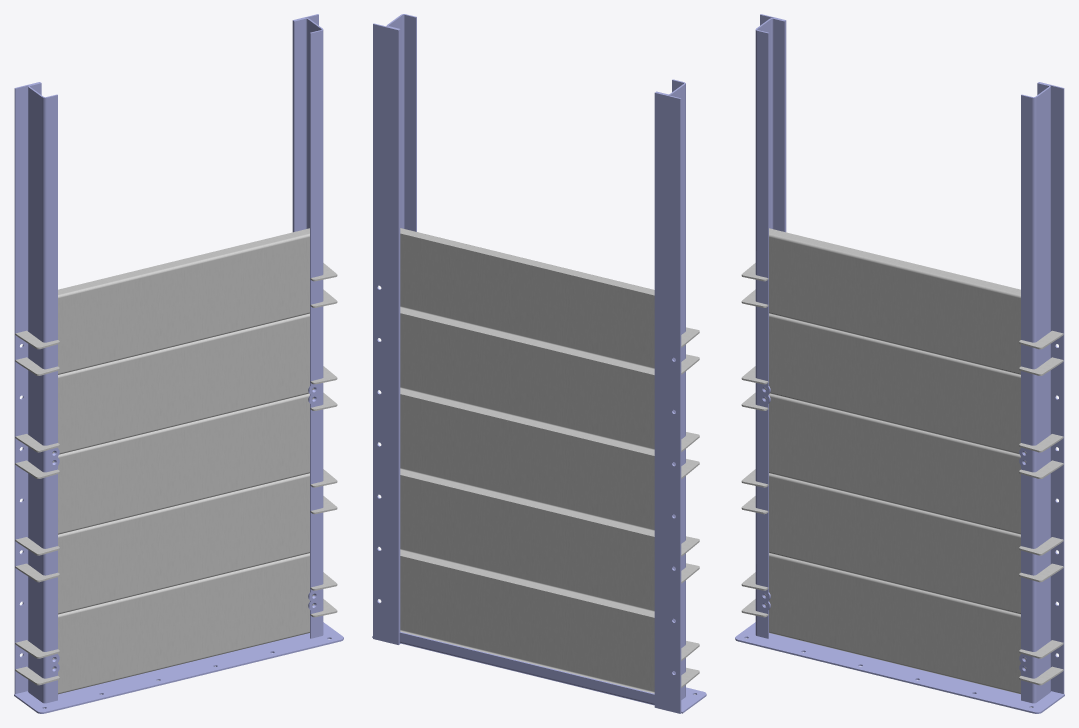
The model's file is 1.3 W-CPS.glb.
The picture shows the model from 3 angles, left to right: view 1: azimuth 30°, elevation 25°; view 2: azimuth 150°, elevation 25°; view 3: azimuth 330°, elevation 25°; orthographic projection.
Parts seen in each view (by area): view 1: Sólido2 (×8), Sólido3 (×2); view 2: Sólido2 (×8), Sólido3 (×2); view 3: Sólido2 (×8), Sólido3 (×2).
Part boxes in pixels (box(x1,y1,x2,y2)): Sólido2 (×8): box(14, 18, 343, 713); Sólido3 (×2): box(14, 14, 318, 693); Sólido2 (×8): box(372, 14, 706, 713); Sólido3 (×2): box(373, 23, 681, 713); Sólido2 (×8): box(735, 18, 1064, 713); Sólido3 (×2): box(760, 14, 1064, 693).
Size of the model in its own units: 1.2 by 2.28 by 0.1815.
2 materials, 1 textured.
